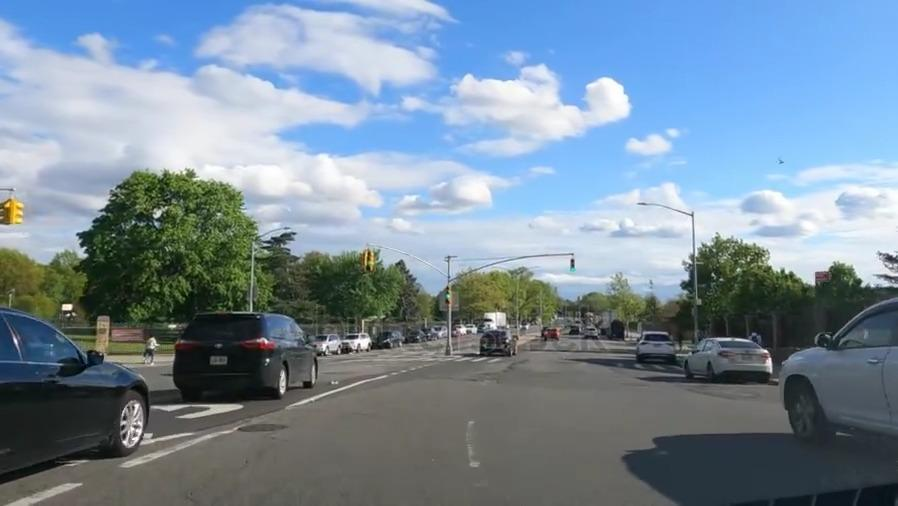bird: (773, 155, 787, 169)
car: (3, 303, 151, 471), (775, 326, 898, 447), (170, 307, 332, 395), (685, 335, 771, 383), (636, 327, 677, 360), (480, 330, 519, 356), (309, 329, 343, 358), (345, 331, 370, 351), (376, 330, 403, 347), (409, 330, 425, 345), (425, 328, 436, 340), (546, 328, 557, 340), (586, 328, 596, 338)
manhole: (231, 418, 293, 437), (141, 331, 163, 366)
pedestrian: (459, 352, 685, 376)
person: (747, 326, 763, 347)
rubbish: (327, 379, 339, 386)
traffic light: (0, 193, 34, 229), (359, 245, 376, 274), (444, 283, 454, 311), (566, 253, 578, 274)
wheel: (114, 387, 151, 461), (783, 374, 820, 438)
